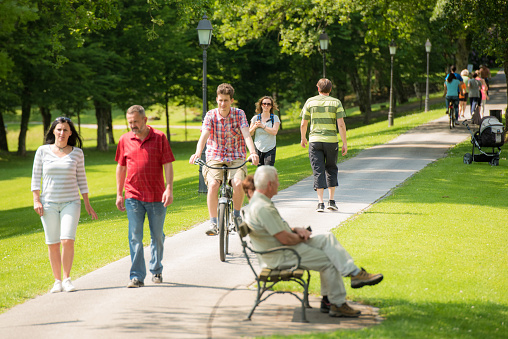person: (241, 161, 389, 322), (112, 104, 182, 293), (29, 115, 102, 296), (187, 79, 263, 239), (297, 73, 355, 215), (245, 92, 286, 209)
